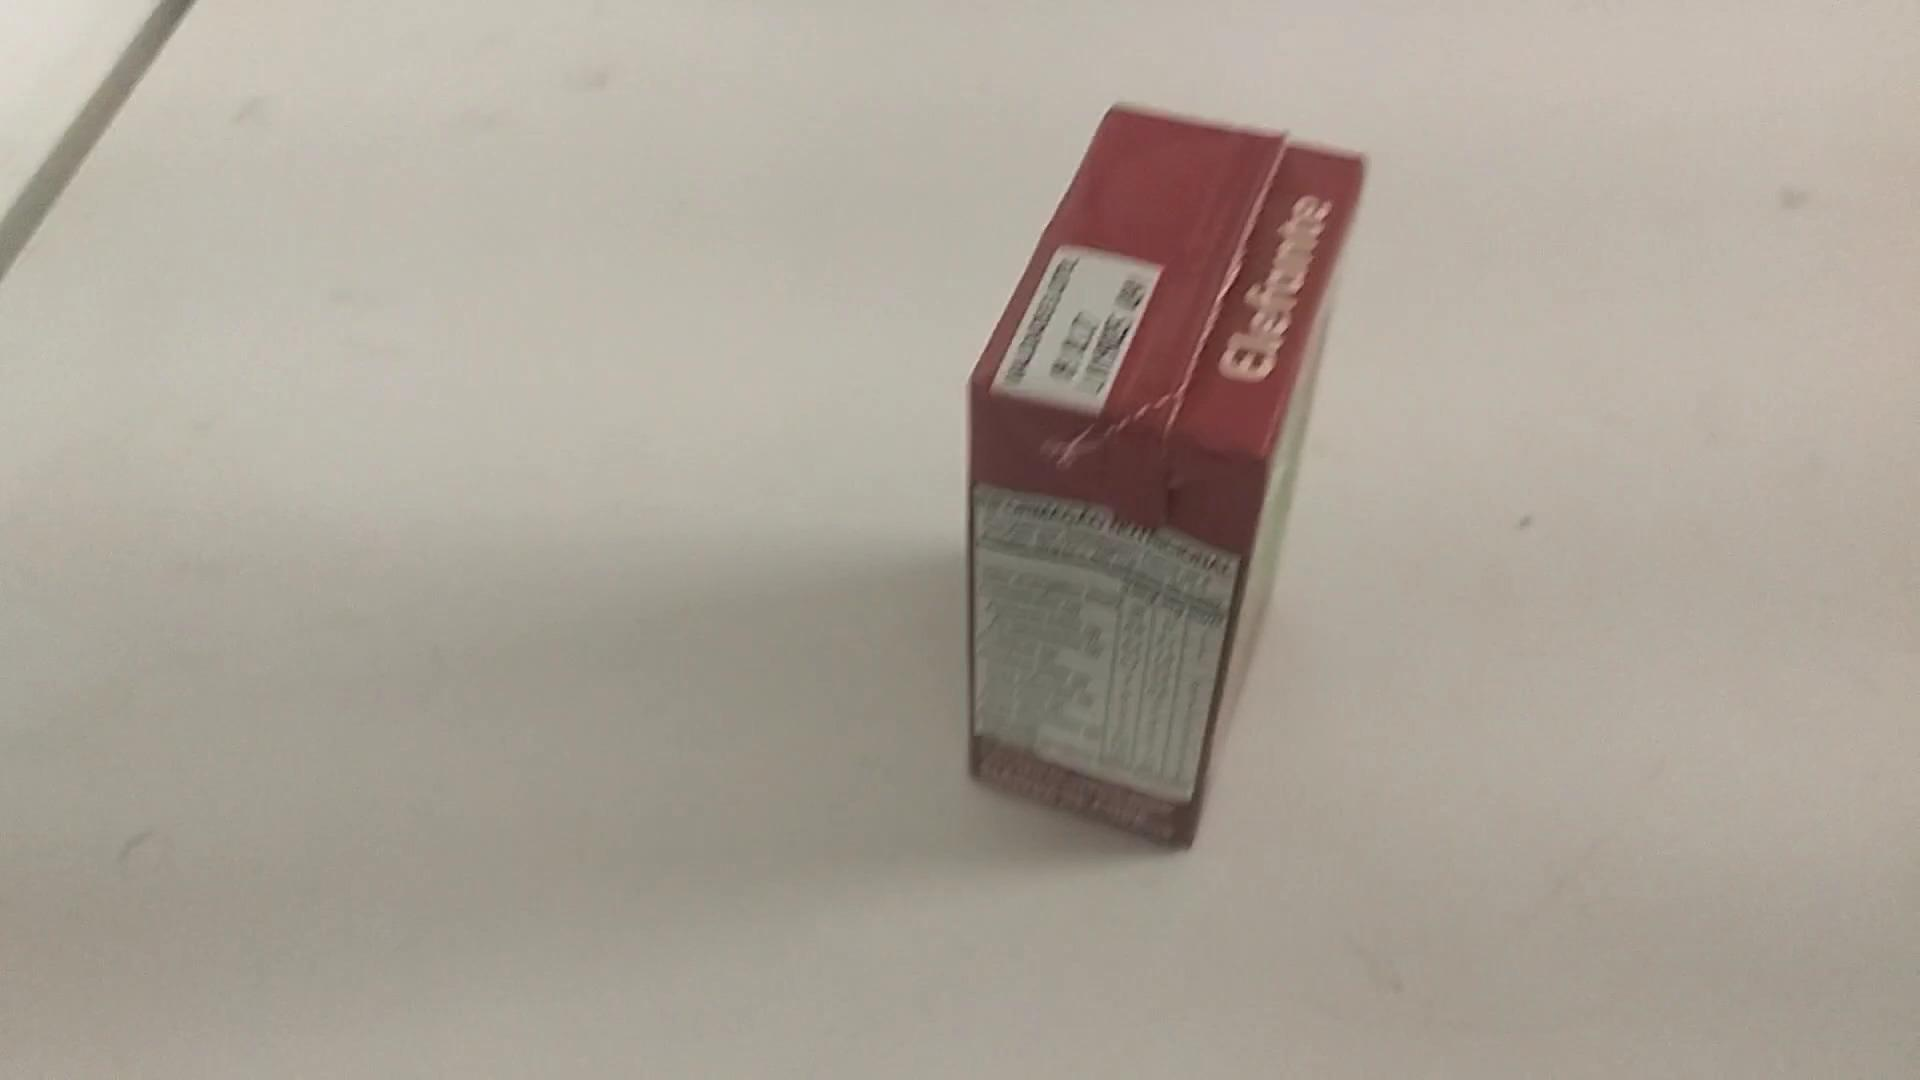tomate: (959, 96, 1379, 858)
